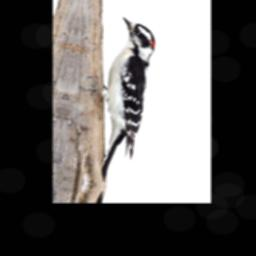Woodpecker: (65, 8, 161, 189)
